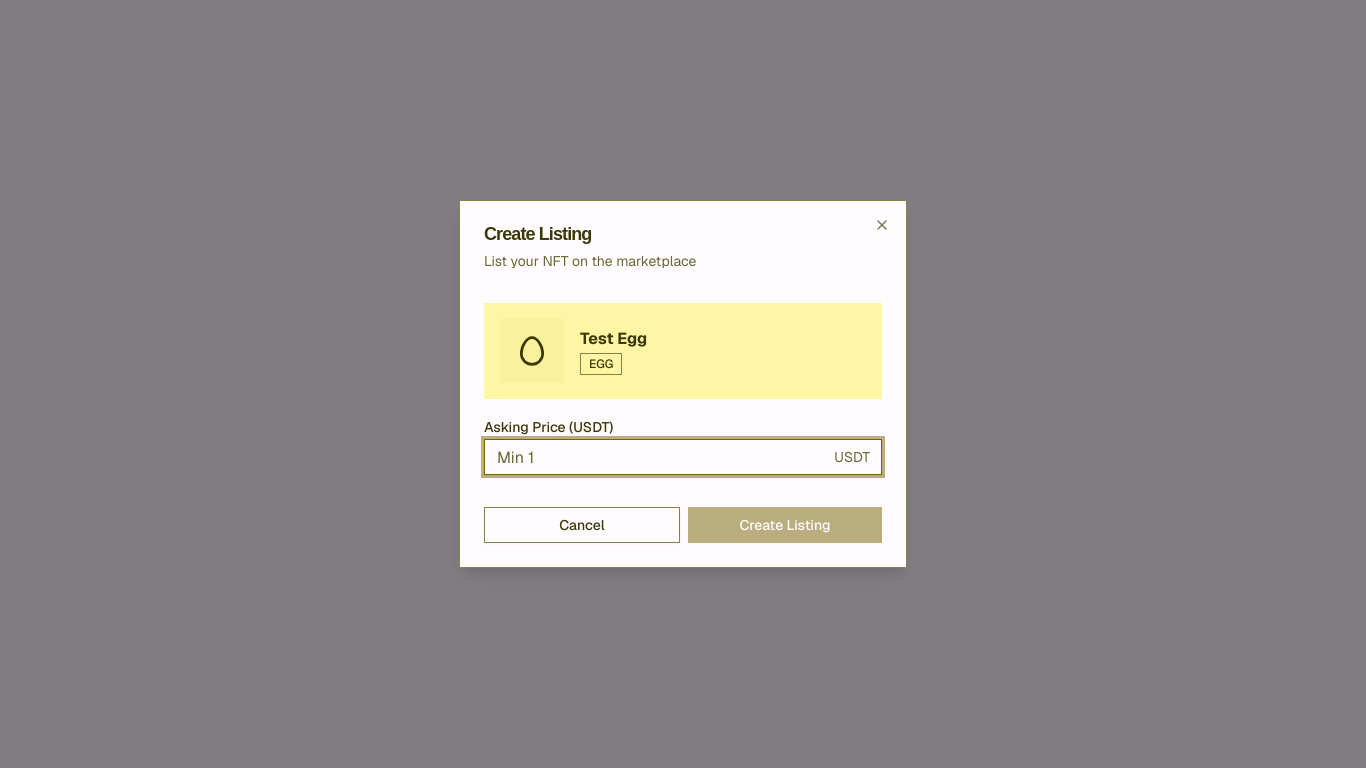
CreateListingDialog › shows error state when API call fails
Type "100" into the field with placeholder "Min 1" at point(683, 457), box [484, 439, 882, 475]
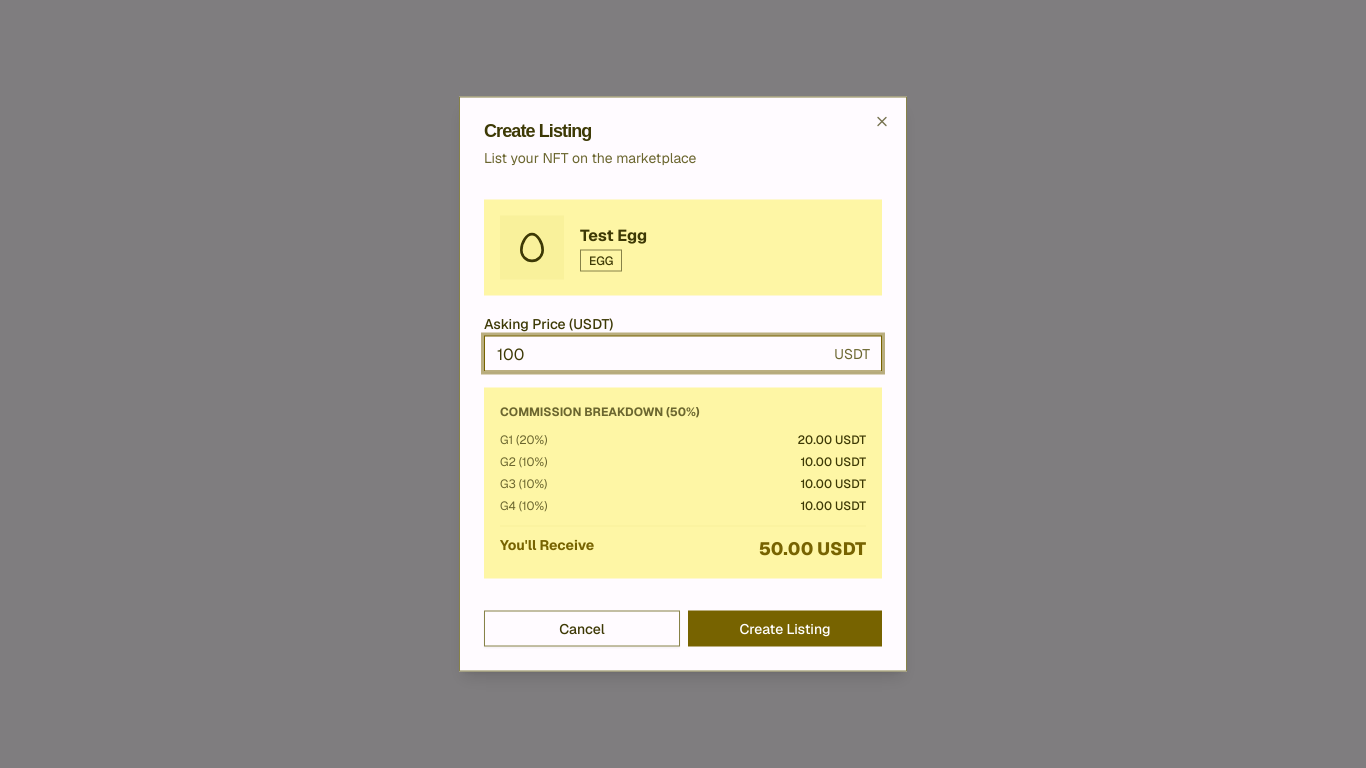
Click the button "Create Listing" at point(785, 628), box [688, 610, 882, 646]
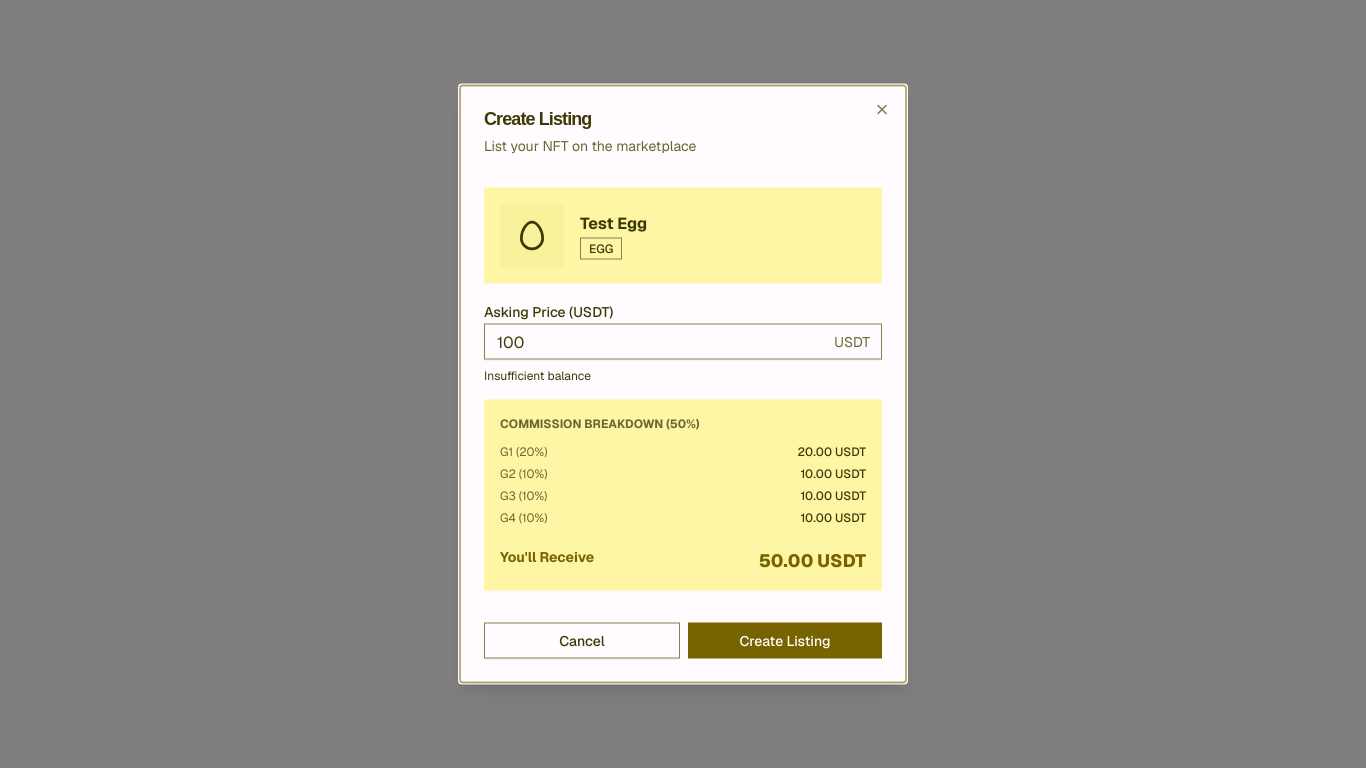
Expected: the text "Insufficient balance" is shown, [484, 368, 591, 384]
